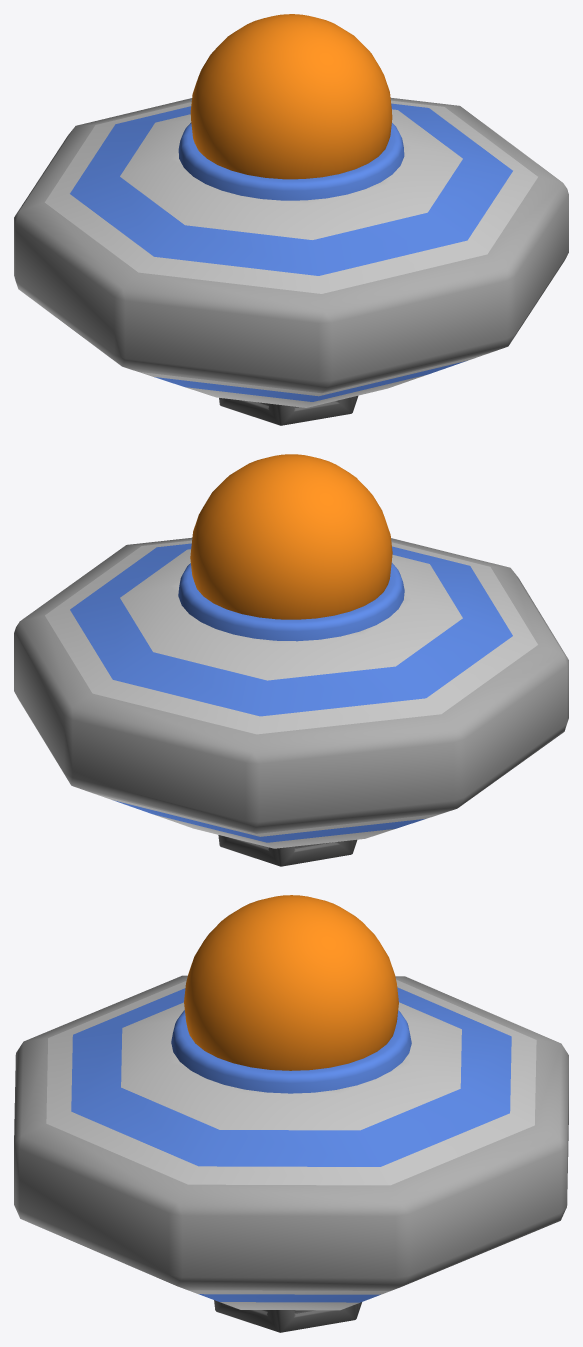
Rendered from ufo.fbx.
The picture shows the model from 3 angles, top to bottom: view 1: azimuth 30°, elevation 25°; view 2: azimuth 150°, elevation 25°; view 3: azimuth 270°, elevation 25°; orthographic projection. The views are drawn at different scales.
Visible parts, largest first — view 1: Цилиндр.075, Сфера.008, Цилиндр.121, Цилиндр.071; view 2: Цилиндр.075, Сфера.008, Цилиндр.121, Цилиндр.071; view 3: Цилиндр.075, Сфера.008, Цилиндр.121, Цилиндр.071.
Boxes of the visible parts, <box> form: Цилиндр.075: <box>14,98,568,407</box>; Сфера.008: <box>190,14,392,179</box>; Цилиндр.121: <box>178,122,404,200</box>; Цилиндр.071: <box>219,396,358,425</box>; Цилиндр.075: <box>14,537,568,848</box>; Сфера.008: <box>190,454,392,619</box>; Цилиндр.121: <box>178,562,404,641</box>; Цилиндр.071: <box>218,835,357,866</box>; Цилиндр.075: <box>14,975,568,1310</box>; Сфера.008: <box>184,895,398,1070</box>; Цилиндр.121: <box>171,1010,411,1093</box>; Цилиндр.071: <box>214,1300,361,1332</box>.
Bounding box in the file's own units: 677 × 530 × 677.
